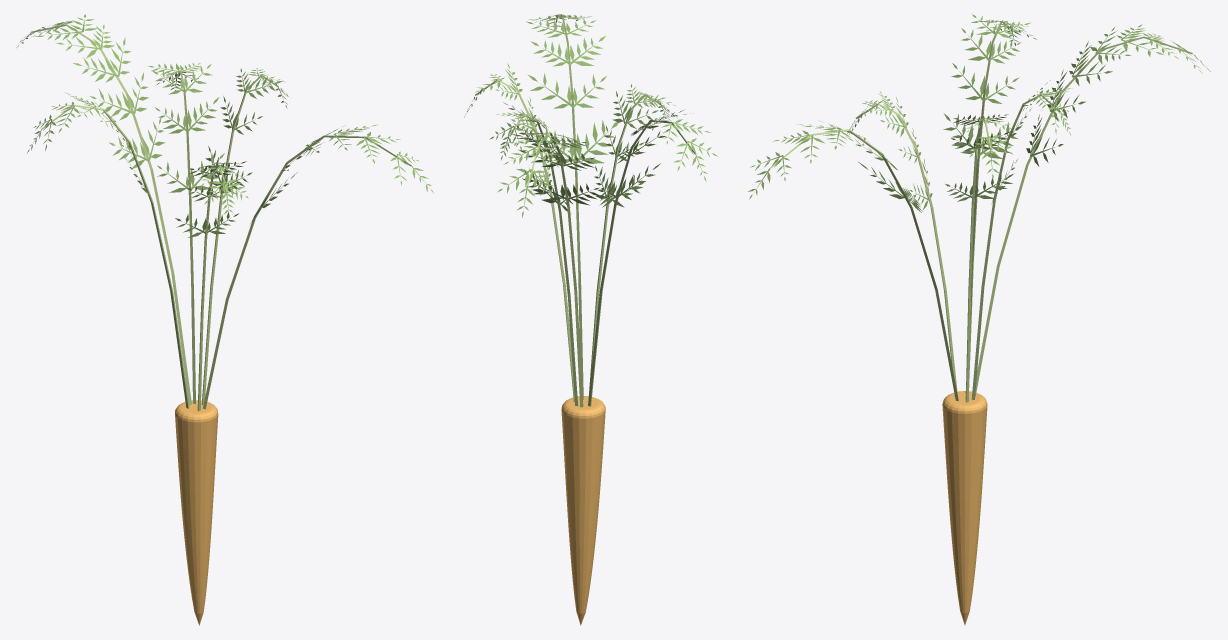
The model's file is carrot_v20.glb.
3 views of the same model, side by side, from view 1: azimuth 30°, elevation 25°; view 2: azimuth 150°, elevation 25°; view 3: azimuth 270°, elevation 25° (orthographic). The views are drawn at different scales.
Visible parts, largest first — view 1: leaves, petioles, root; view 2: leaves, root, petioles; view 3: leaves, root, petioles.
Part boxes in pixels (bbox=[...]): leaves: bbox=[16, 14, 433, 237]; petioles: bbox=[31, 24, 411, 411]; root: bbox=[175, 400, 218, 625]; leaves: bbox=[464, 14, 717, 217]; root: bbox=[561, 396, 605, 625]; petioles: bbox=[475, 16, 695, 407]; leaves: bbox=[748, 14, 1210, 212]; root: bbox=[942, 391, 987, 625]; petioles: bbox=[769, 21, 1192, 402].
Size of the model in its own units: 0.2625 by 0.489 by 0.365.
